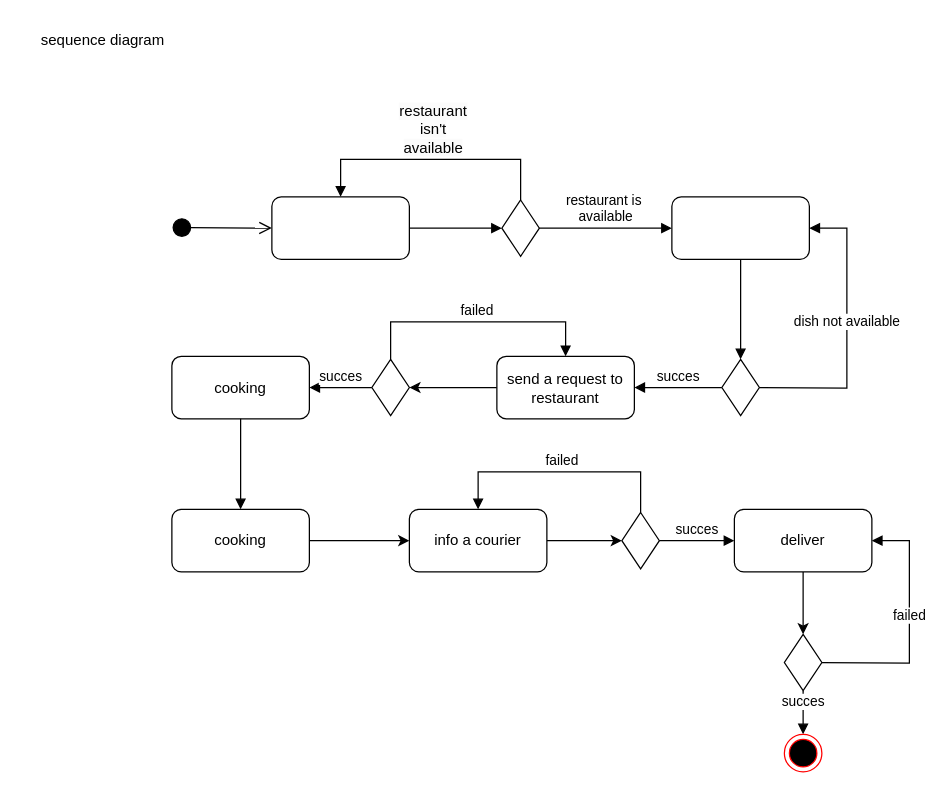
Image size: 946x794. Some labels were removed from this diagram. Each missing label, with the centre of its shape:
"choose restaurant" goes at pixel 340 227.
"order food" goes at pixel 740 227.
